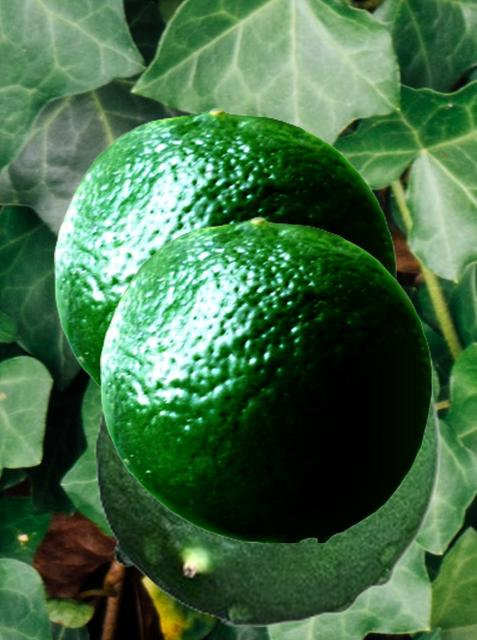calamansi: (100, 216, 431, 541), (54, 107, 395, 390), (94, 354, 440, 625)
